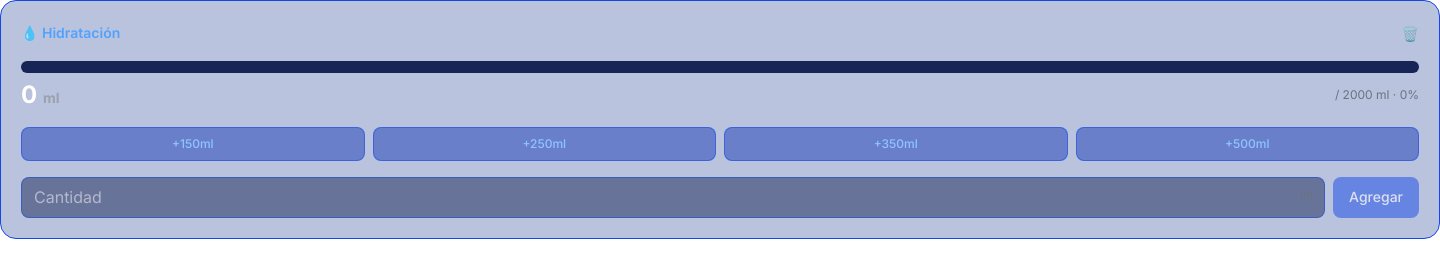
Test: HydrationTracker › canceling reset hides confirm state
Click the button named "Reiniciar" at (1410, 34), box [1402,24,1419,44]
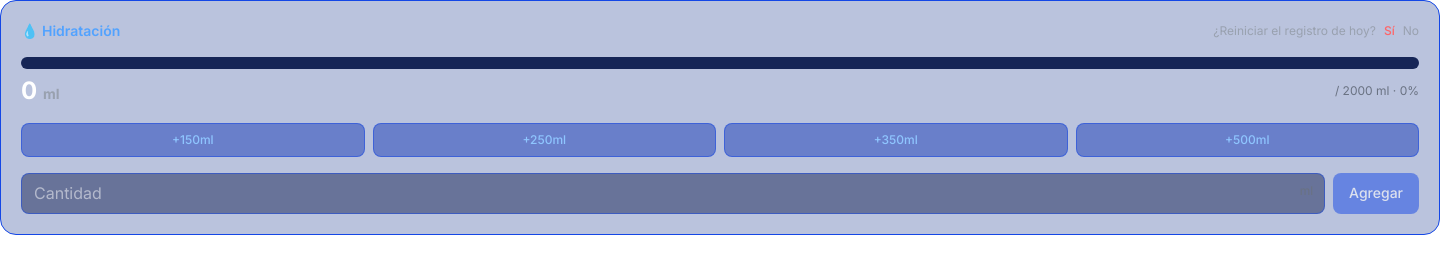
Check: the text "¿Reiniciar el registro de hoy?" is shown, box [1213,23,1376,39]
Click the button "No" at (1411, 31), box [1403,23,1419,39]
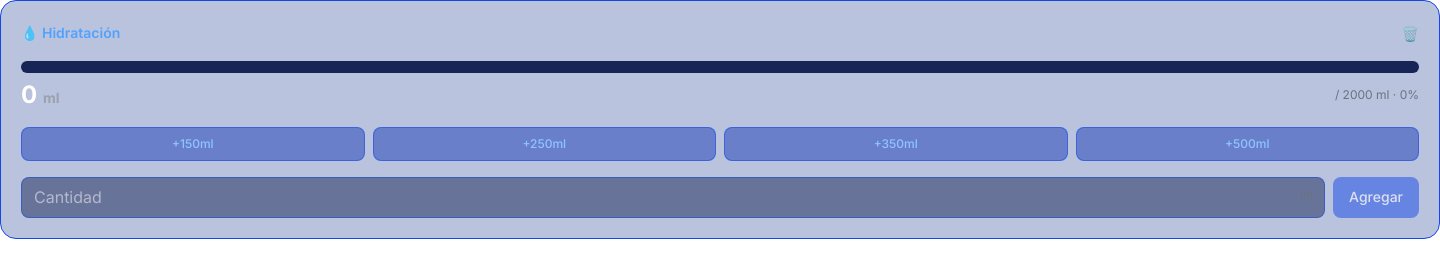
Check: the text "¿Reiniciar el registro de hoy?" is gone
